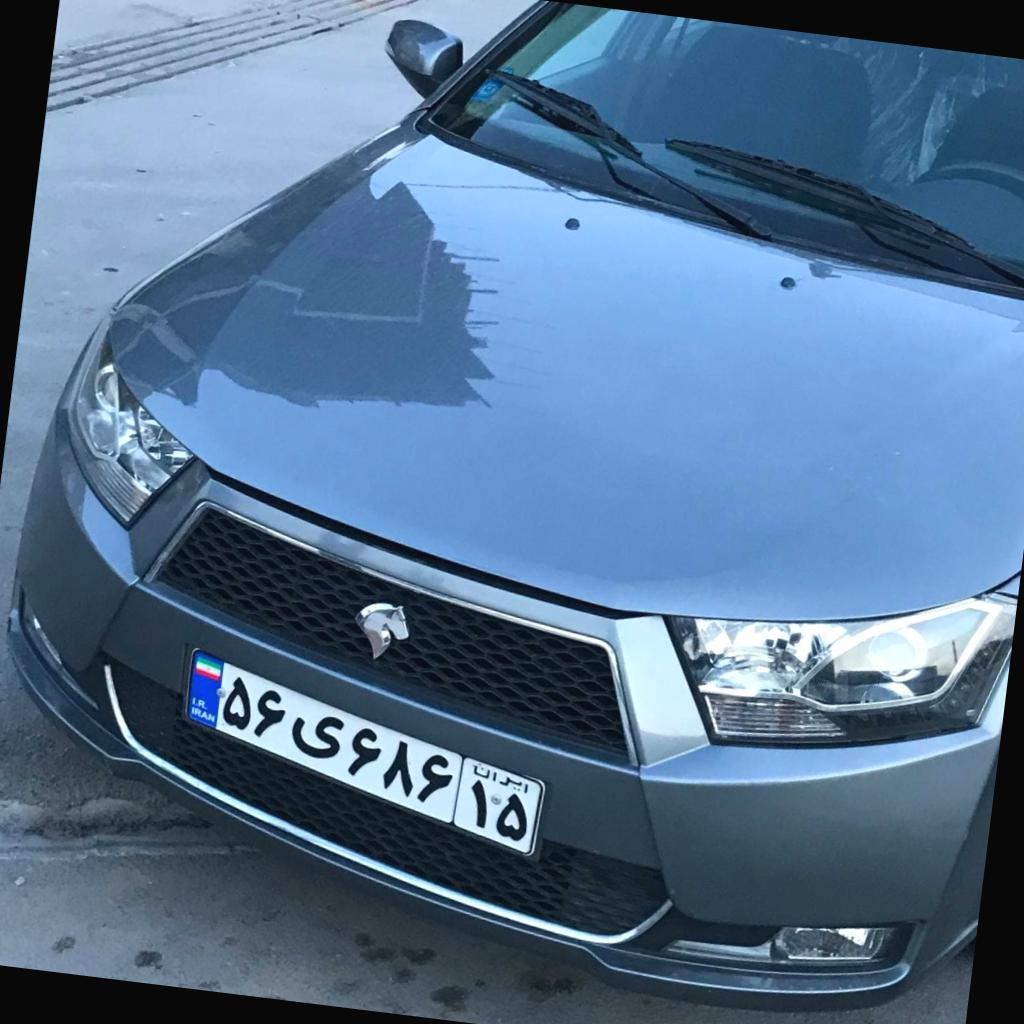Plates: (186, 647, 541, 853)
